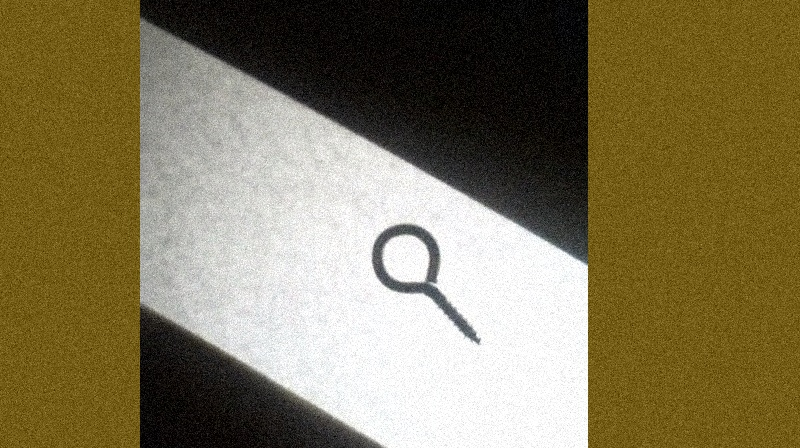O001: (368, 219, 489, 348)
